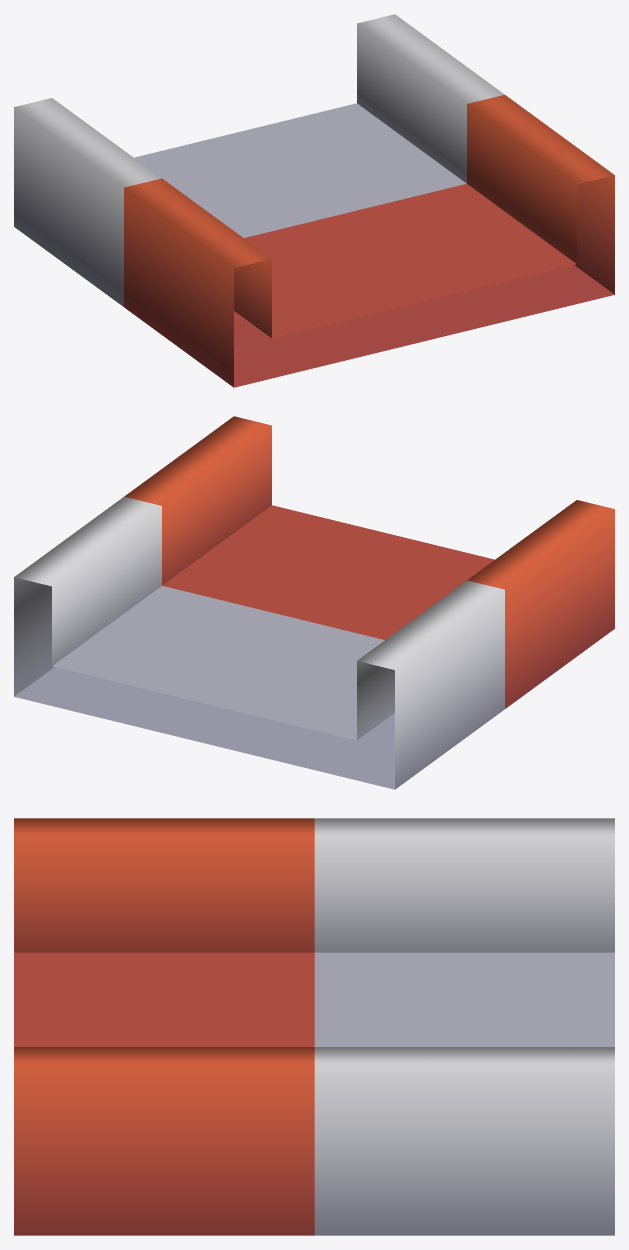
The model's file is track-striped-narrow.glb.
The picture shows the model from 3 angles, top to bottom: view 1: azimuth 30°, elevation 25°; view 2: azimuth 150°, elevation 25°; view 3: azimuth 270°, elevation 25°; orthographic projection. The views are drawn at different scales.
Visible parts, largest first — view 1: track-striped-narrow; view 2: track-striped-narrow; view 3: track-striped-narrow.
Boxes of the visible parts, x1=… form: track-striped-narrow: x1=14, y1=14, x2=614, y2=387; track-striped-narrow: x1=14, y1=416, x2=614, y2=789; track-striped-narrow: x1=14, y1=818, x2=614, y2=1235.
Size of the model in its own units: 1 by 0.3 by 1.
